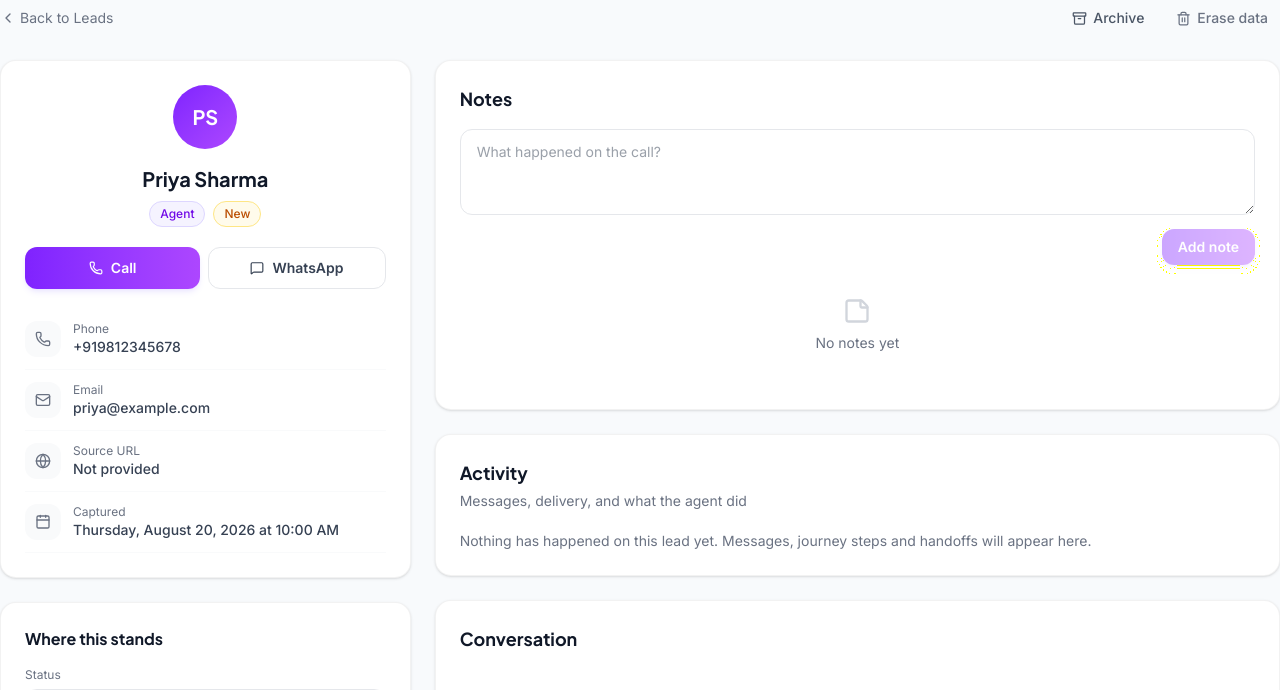
erasing a lead › keeps the confirm button disabled until the name is typed exactly
Expected: the heading "Priya Sharma" is shown, [142, 166, 268, 191]
Click the button "Erase data" at {"x": 1222, "y": 18}, box [1164, 0, 1279, 36]
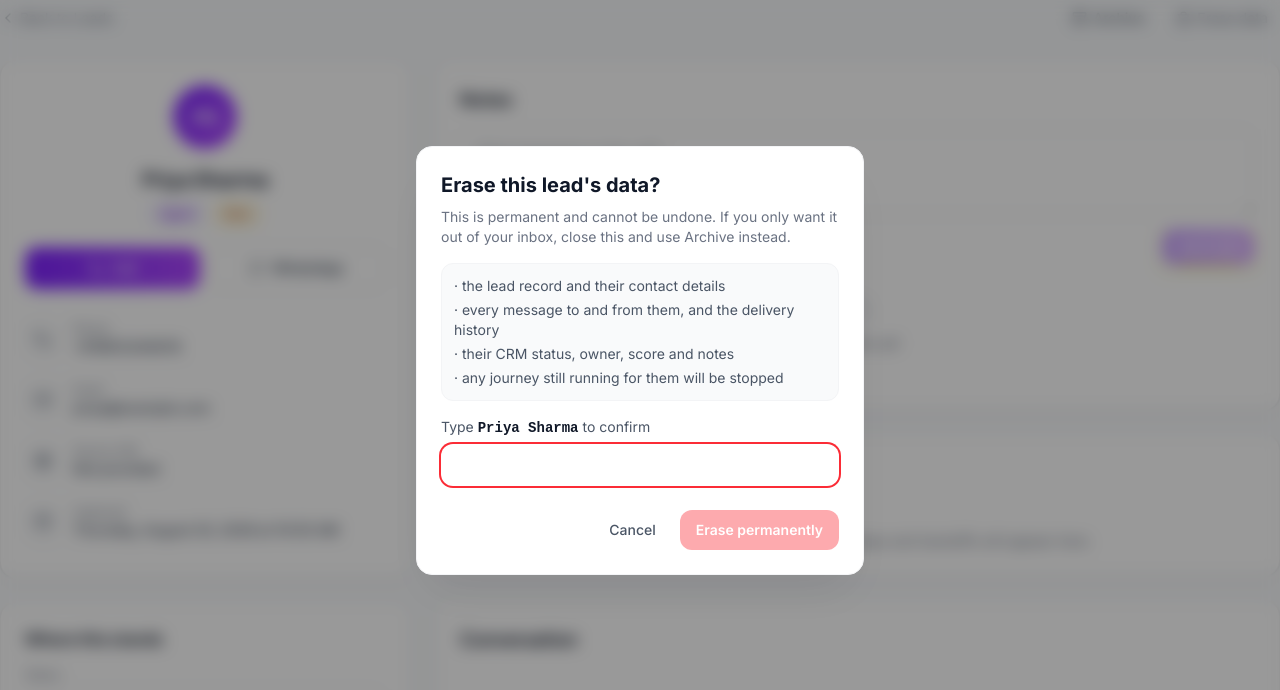
Expected: the button "Erase permanently" is disabled, [680, 510, 839, 550]
Type "Priya" into the field named "Confirm erasure by typing the lead name" at {"x": 640, "y": 464}, box [441, 444, 839, 486]
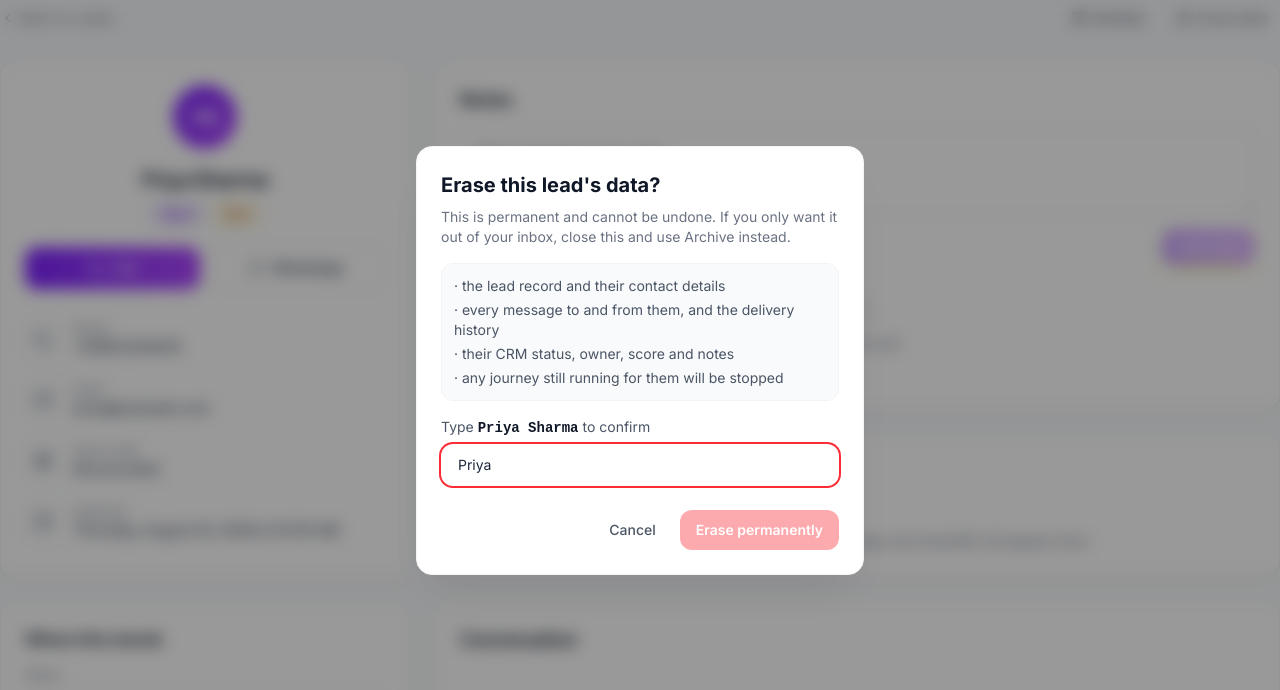
Expected: the button "Erase permanently" is disabled, [680, 510, 839, 550]
Replace the text in the field named "Confirm erasure by typing the lead name" with "Priya Sharma" at {"x": 640, "y": 464}, box [441, 444, 839, 486]
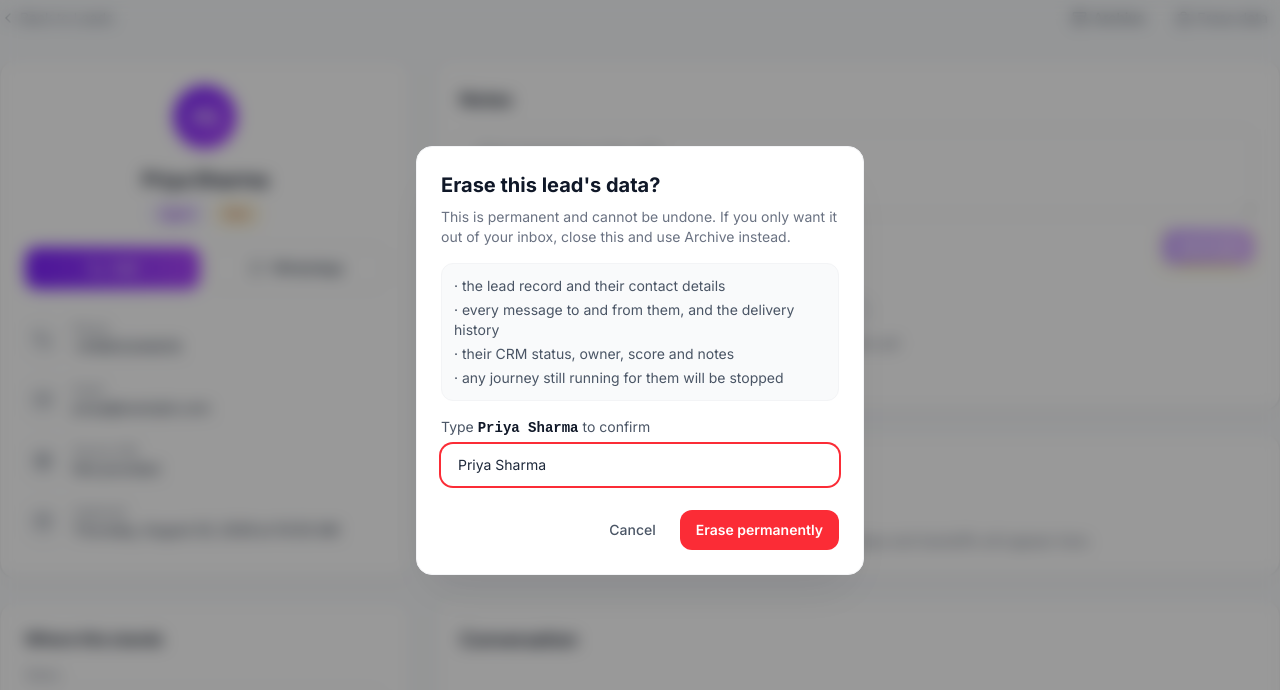
Expected: the button "Erase permanently" is enabled, [680, 510, 839, 550]
